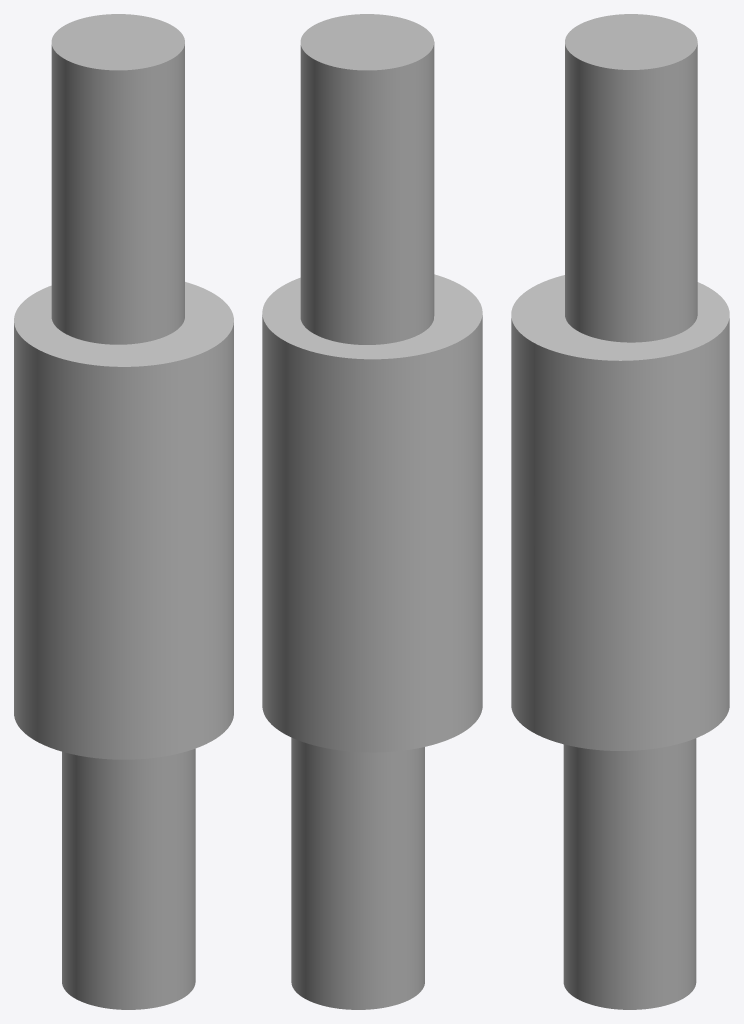
Rendered from fuse.fbx.
The picture shows the model from 3 angles, left to right: view 1: azimuth 30°, elevation 25°; view 2: azimuth 150°, elevation 25°; view 3: azimuth 270°, elevation 25°; orthographic projection.
Parts seen in each view (by area): view 1: Node #2, Node #1, Node #0; view 2: Node #2, Node #1, Node #0; view 3: Node #2, Node #1, Node #0.
Boxes of the visible parts, x1,y1,x2,y2 form: Node #2: (14,282,233,759); Node #1: (51,14,184,344); Node #0: (62,748,195,1009); Node #2: (262,274,482,752); Node #1: (300,14,434,344); Node #0: (291,737,424,1009); Node #2: (511,275,729,750); Node #1: (565,14,697,342); Node #0: (563,738,696,1009).
Size of the model in its own units: 0.1031 by 0.4867 by 0.1031.
Materials: 1 (1 with a texture image).
